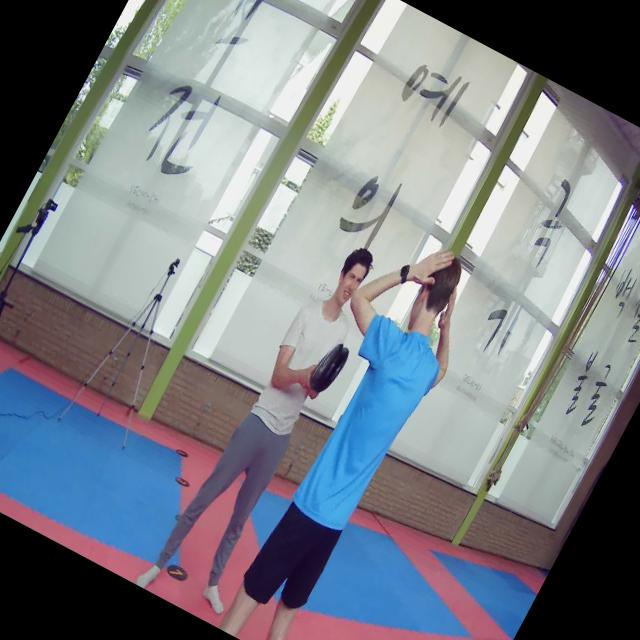paddle: (310, 342, 349, 393)
